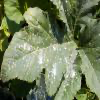Squash Powdery mildew leaf: (0, 0, 100, 98)
